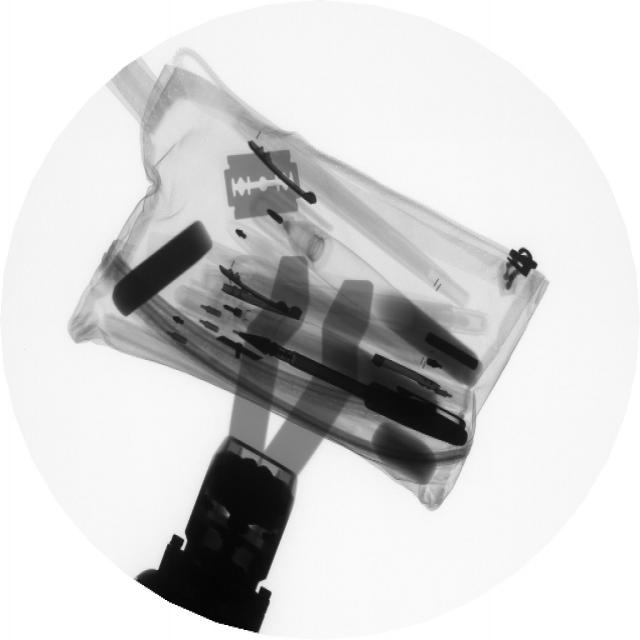BLADE: (217, 139, 307, 229)
